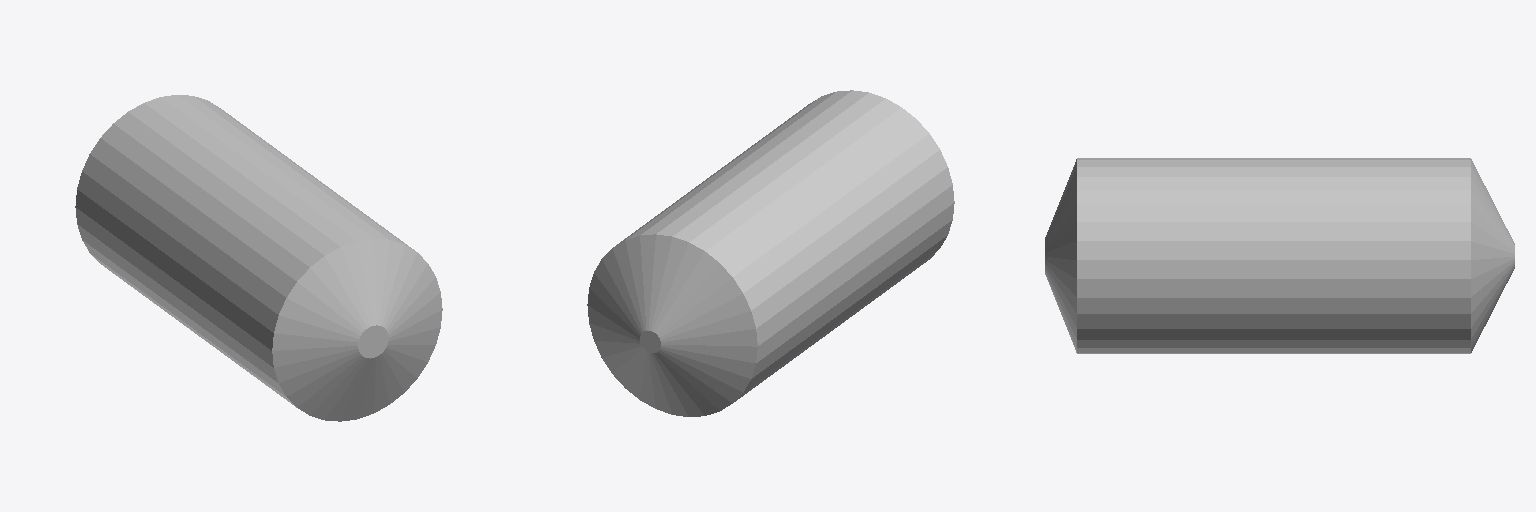
Rendered from cylTest1.obj.
3 renders of one model, left to right at view 1: azimuth 30°, elevation 25°; view 2: azimuth 150°, elevation 25°; view 3: azimuth 270°, elevation 25°, orthographic.
Visible parts, largest first — view 1: Cylinder; view 2: Cylinder; view 3: Cylinder.
Part boxes in pixels (x1,y1,x2,y2): Cylinder: (75, 95, 442, 421); Cylinder: (587, 90, 954, 416); Cylinder: (1045, 158, 1514, 353).
Bounding box in the file's own units: 1 × 1 × 2.39.